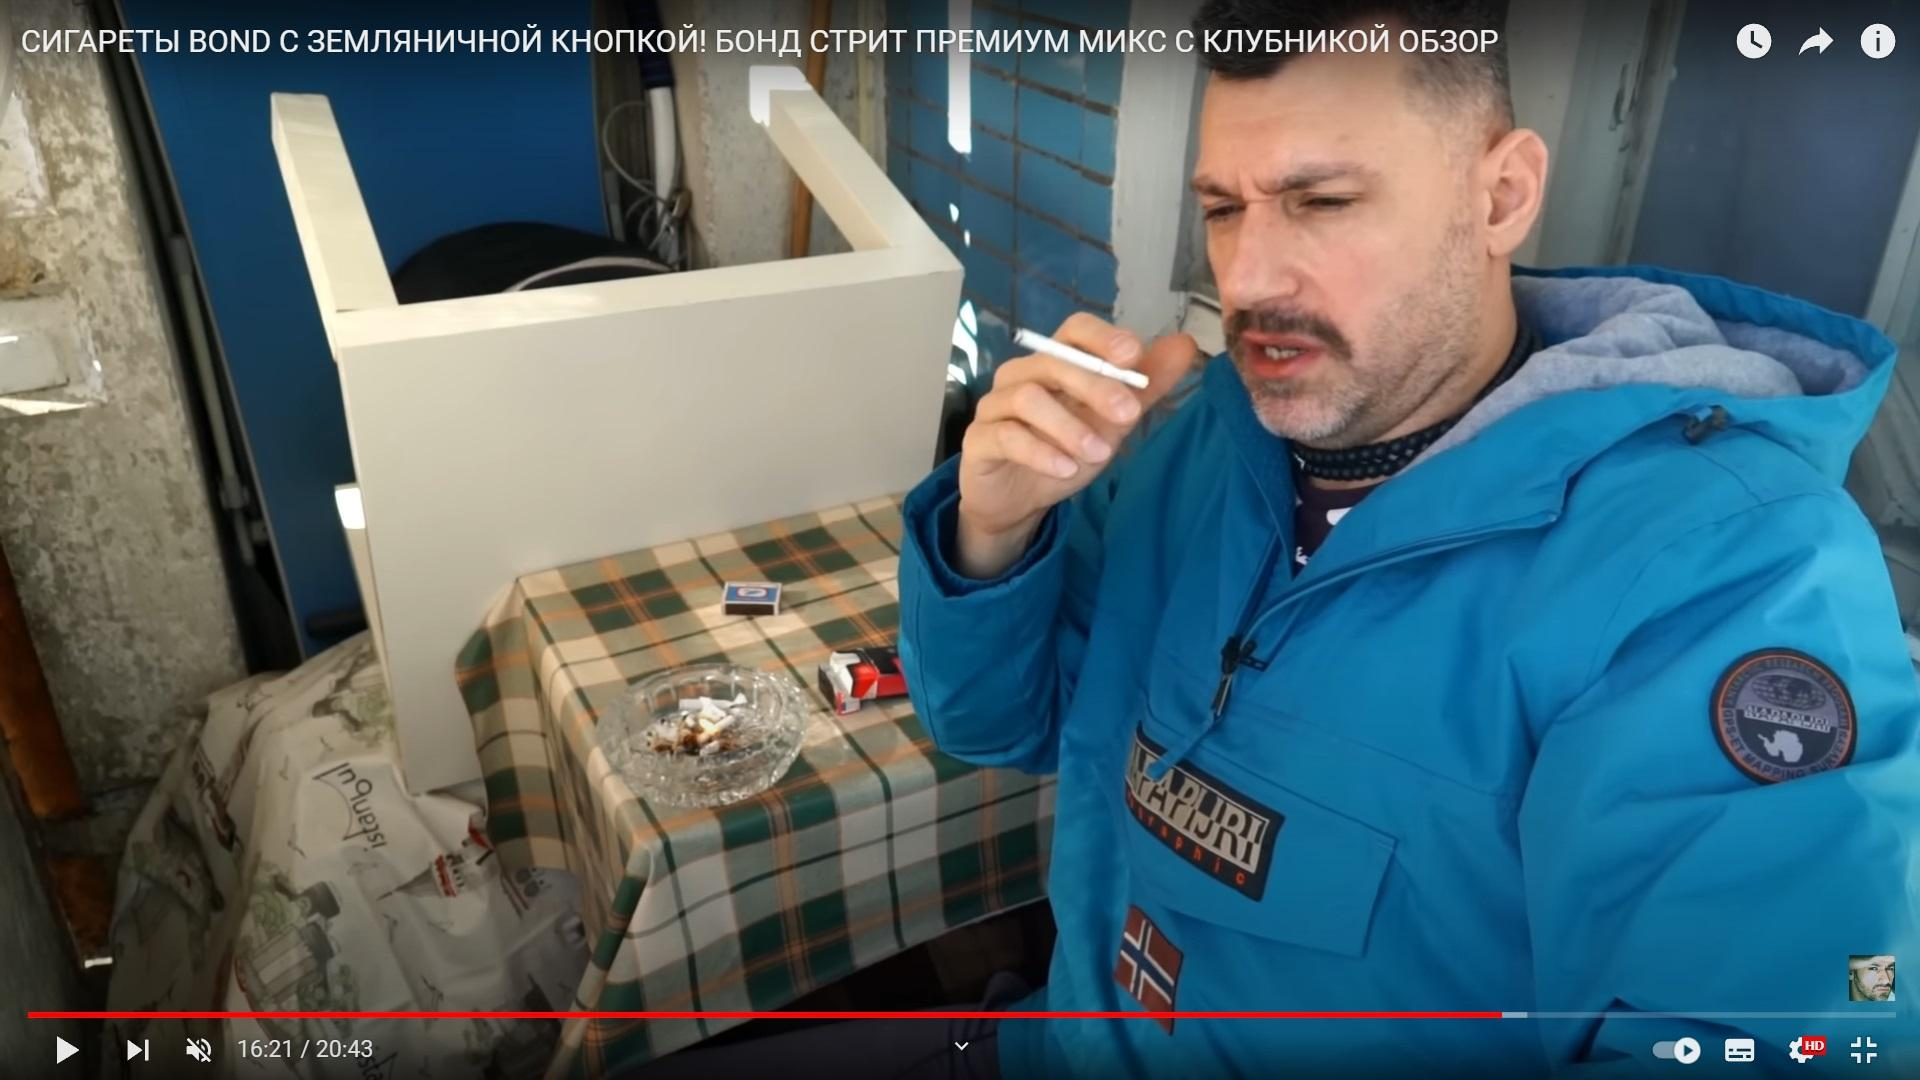cigarette: (1010, 327, 1150, 389)
